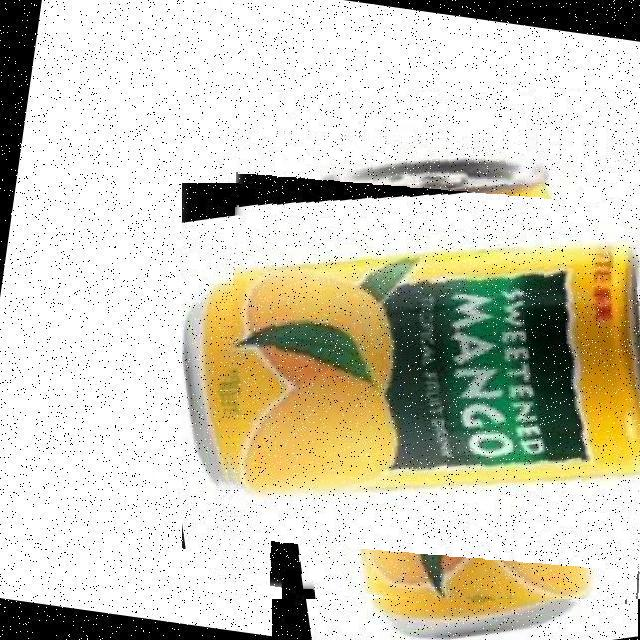recyclable: (220, 131, 640, 599)
